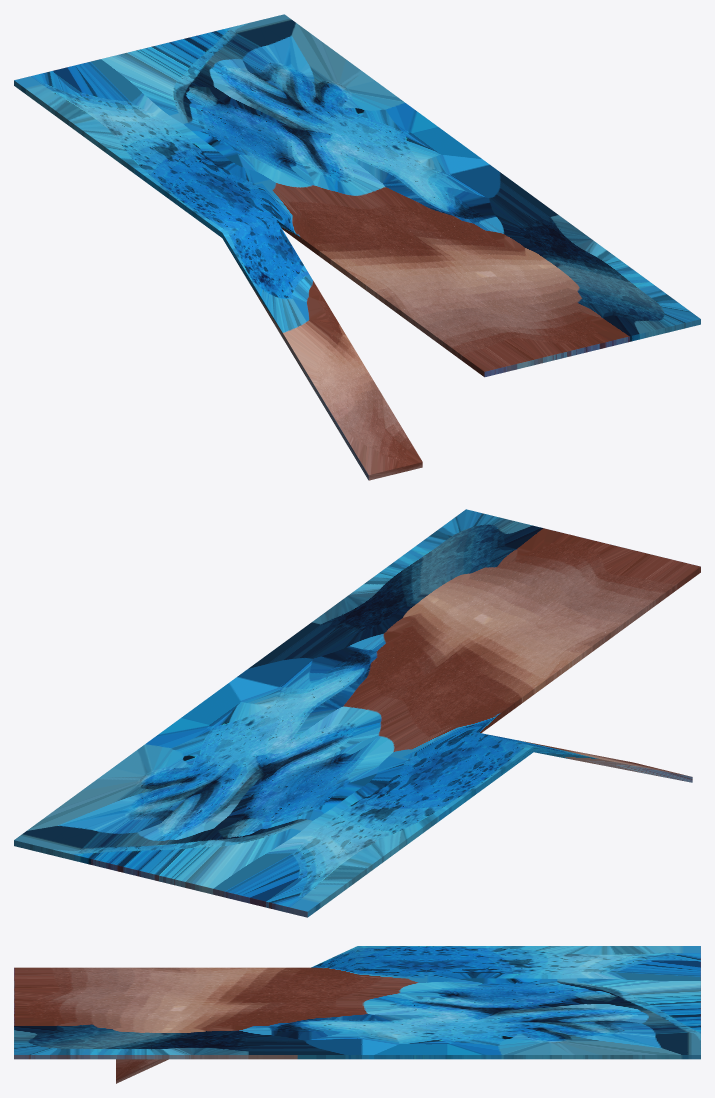
The model's file is FLOOR.FBX.
3 renders of one model, top to bottom at view 1: azimuth 30°, elevation 25°; view 2: azimuth 150°, elevation 25°; view 3: azimuth 270°, elevation 25°, orthographic. The views are drawn at different scales.
Visible parts, largest first — view 1: FLOOR; view 2: FLOOR; view 3: FLOOR.
Part boxes in pixels (left/top/right/bottom): FLOOR: left=14, top=14, right=700, bottom=480; FLOOR: left=14, top=509, right=700, bottom=917; FLOOR: left=14, top=946, right=700, bottom=1083.
Size of the model in its own units: 567 by 1511 by 282.
1 material, 1 textured.
